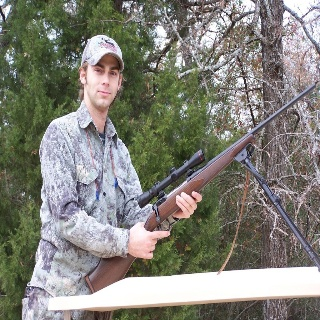rifle: (85, 85, 316, 292)
